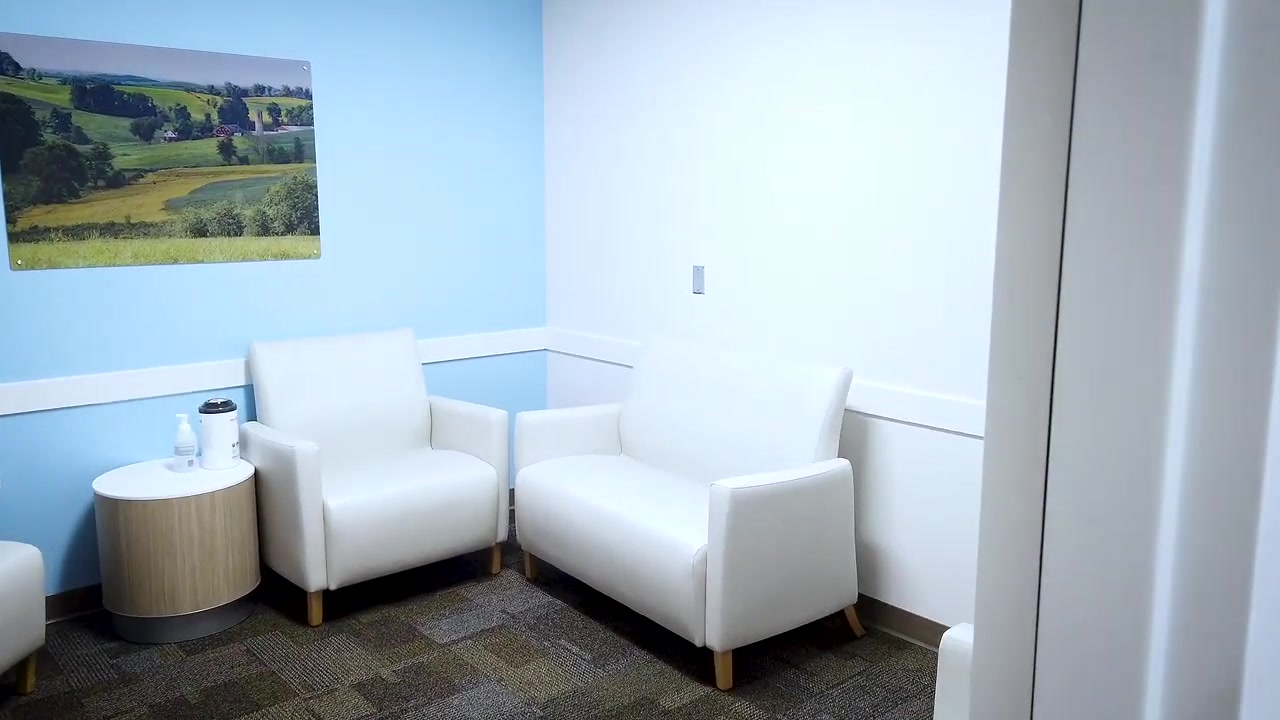dispenser: (173, 414, 199, 473)
sofa: (509, 338, 867, 691), (237, 328, 512, 628), (1, 539, 50, 696)
table: (89, 455, 263, 644)
